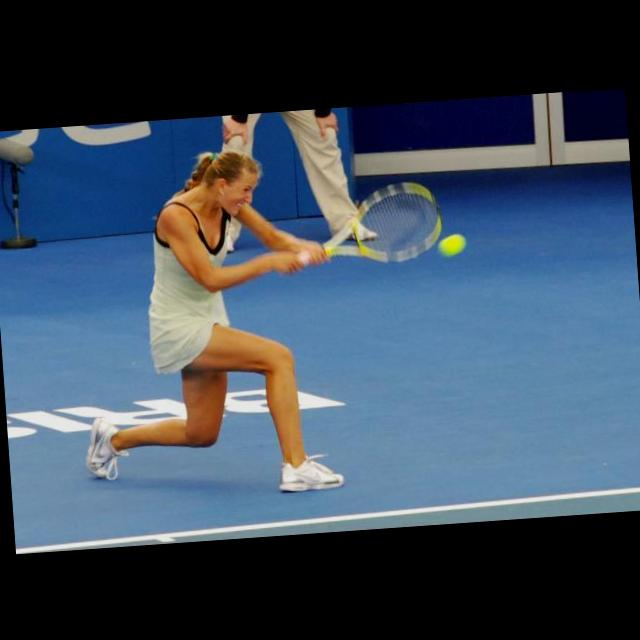Tennis Ball: (436, 232, 466, 255)
